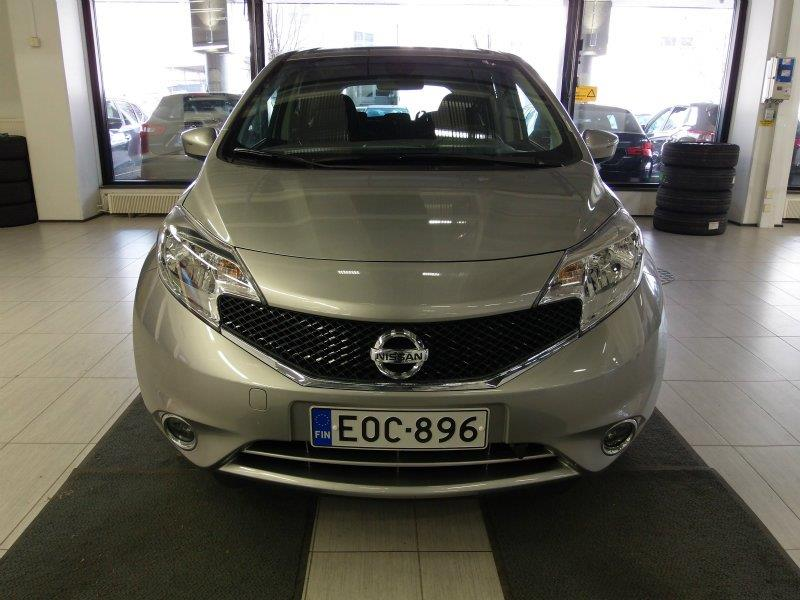license: (308, 409, 490, 450)
